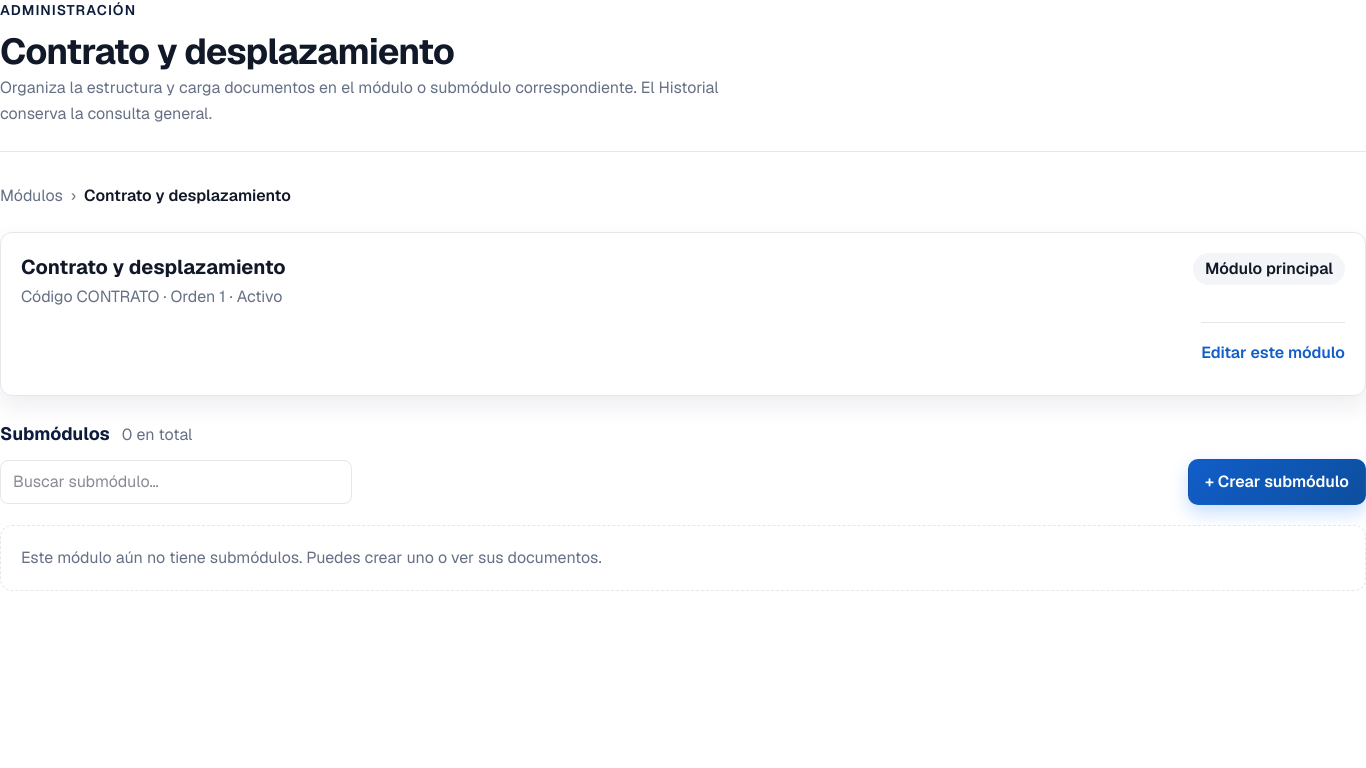
Test: página de un módulo: alta de submódulos › dentro de un módulo activo, el submódulo nuevo empieza activo
This screenshot has width=1366, height=768.
Click the button "+ Crear submódulo" at (1277, 482), box top-left (1188, 459), bottom-right (1365, 505)
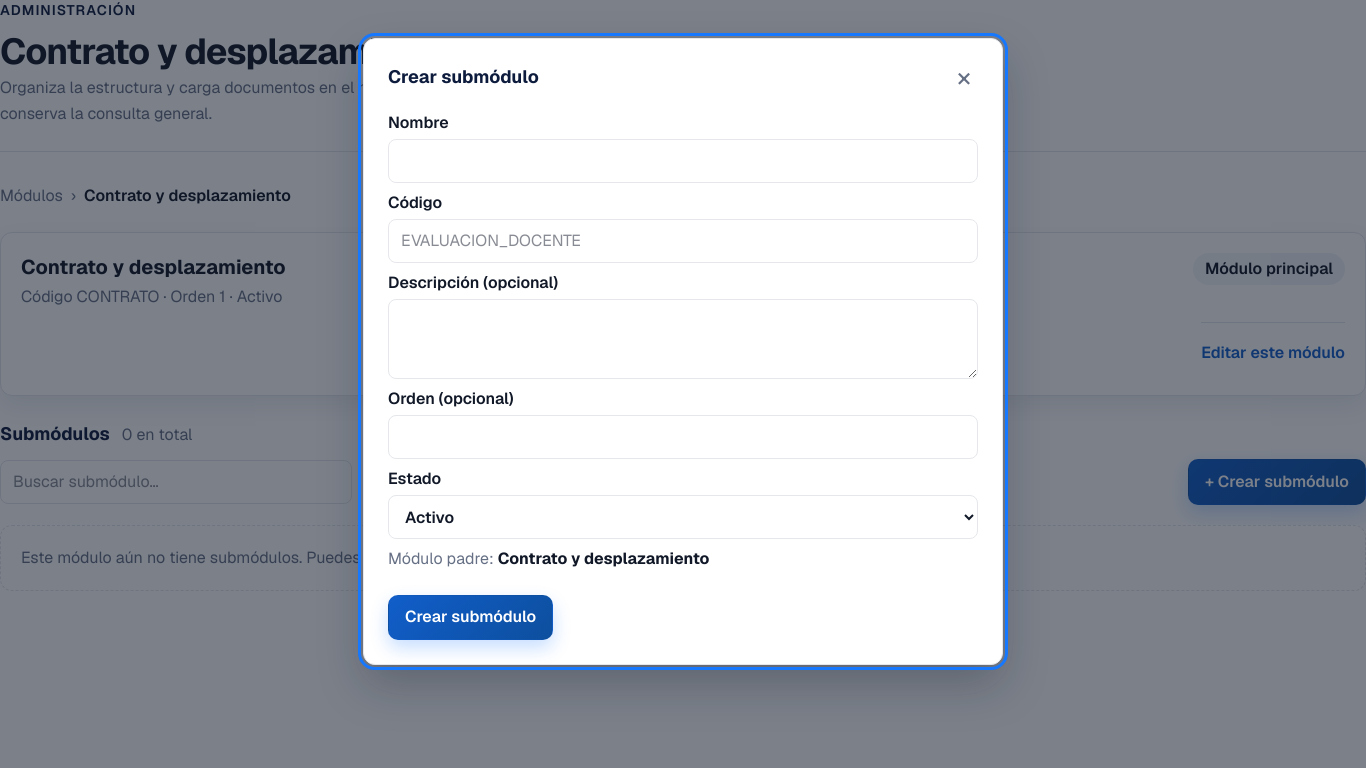
Expected: the dropdown labelled "Estado" shows "Activo", top-left (388, 495), bottom-right (978, 539)
